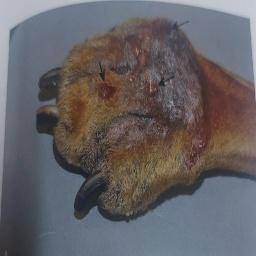pyoderma: (92, 21, 209, 150)
